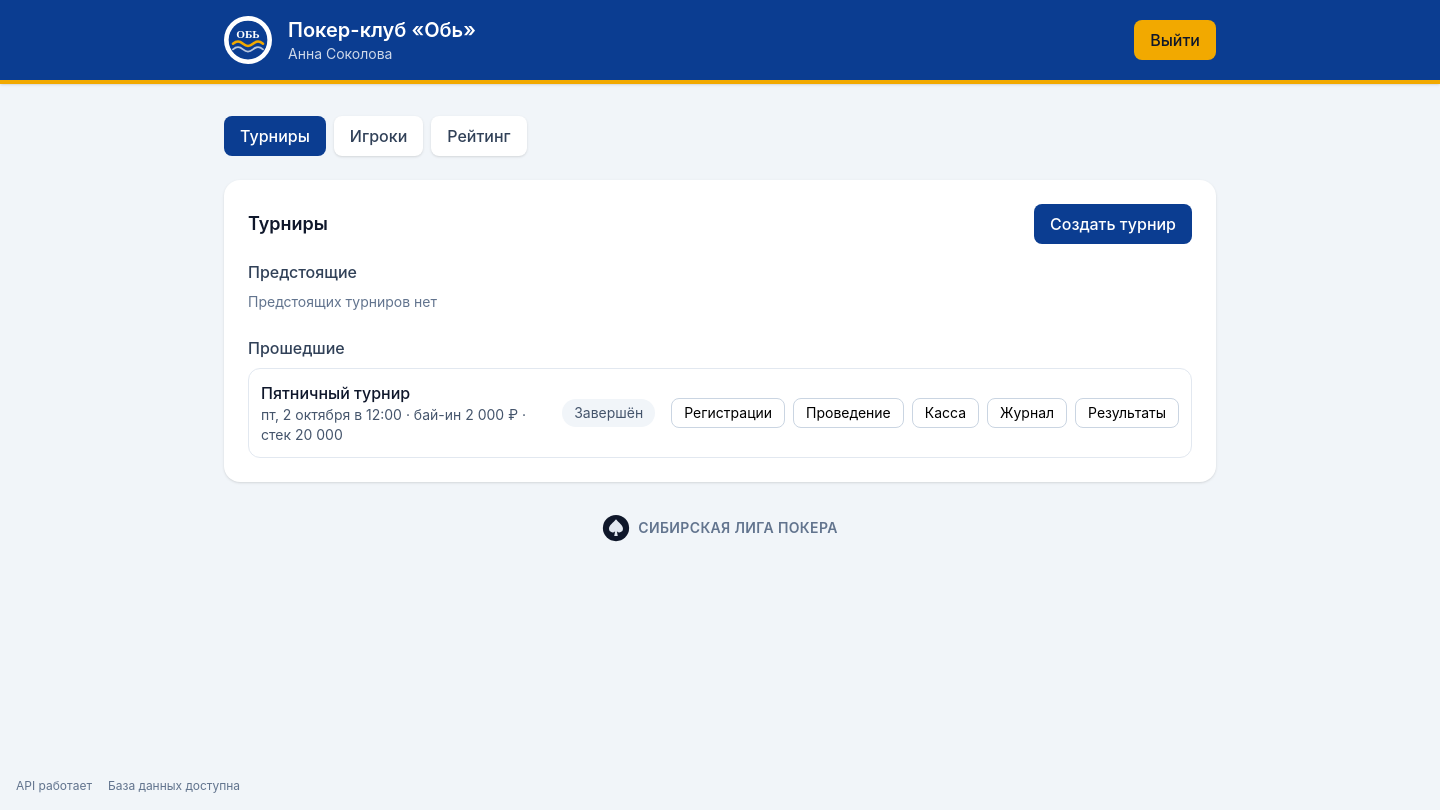
tournament results › says when a tournament has no results yet
Click the button "Результаты": click(1127, 413) [1075, 398, 1179, 428]
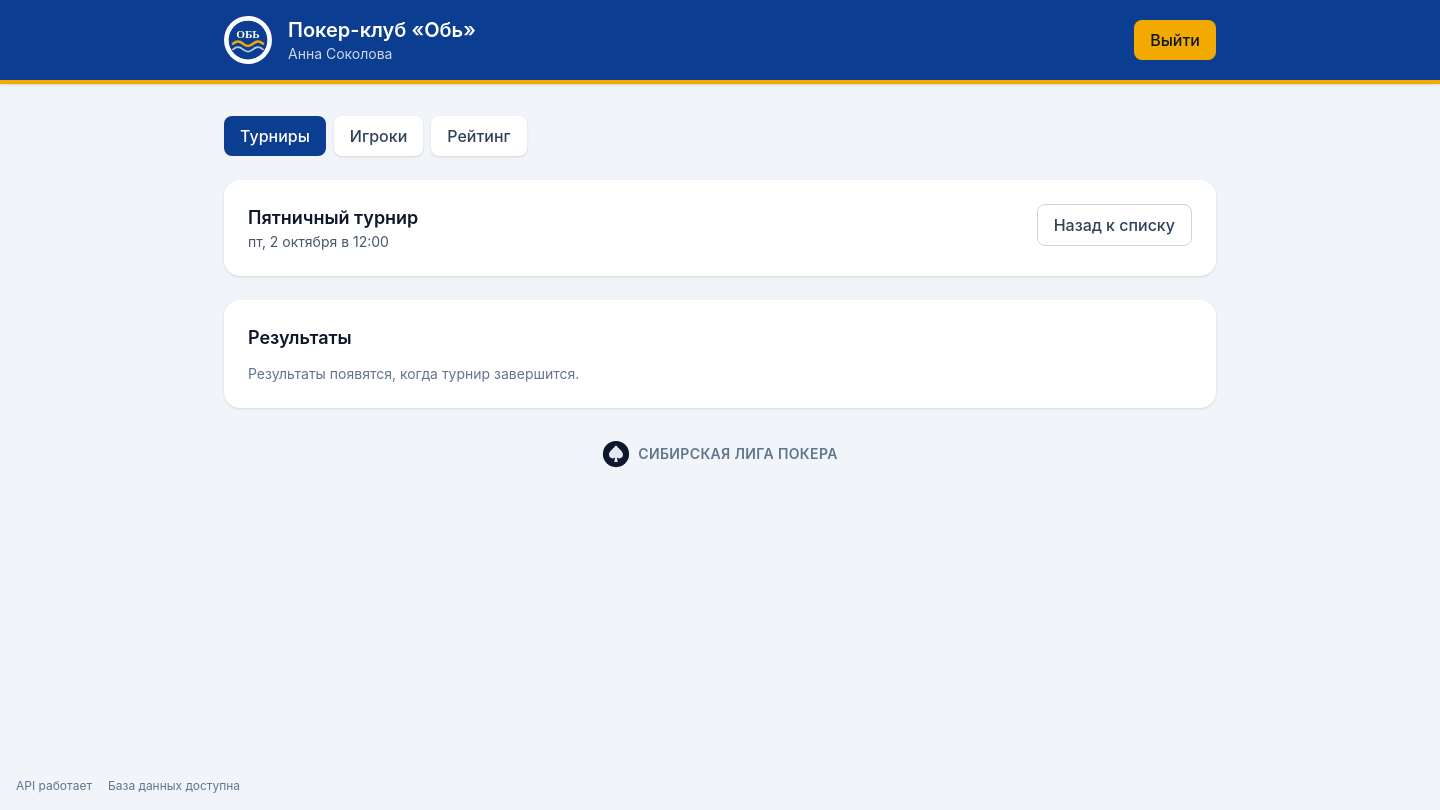
Check: the heading "Пятничный турнир" is shown, box [248, 204, 418, 232]
Check: the text "Результаты появятся, когда турнир завершится." is shown, box [248, 365, 579, 382]
